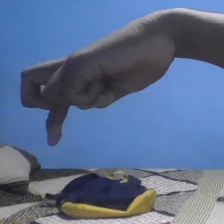P: (16, 5, 178, 147)
